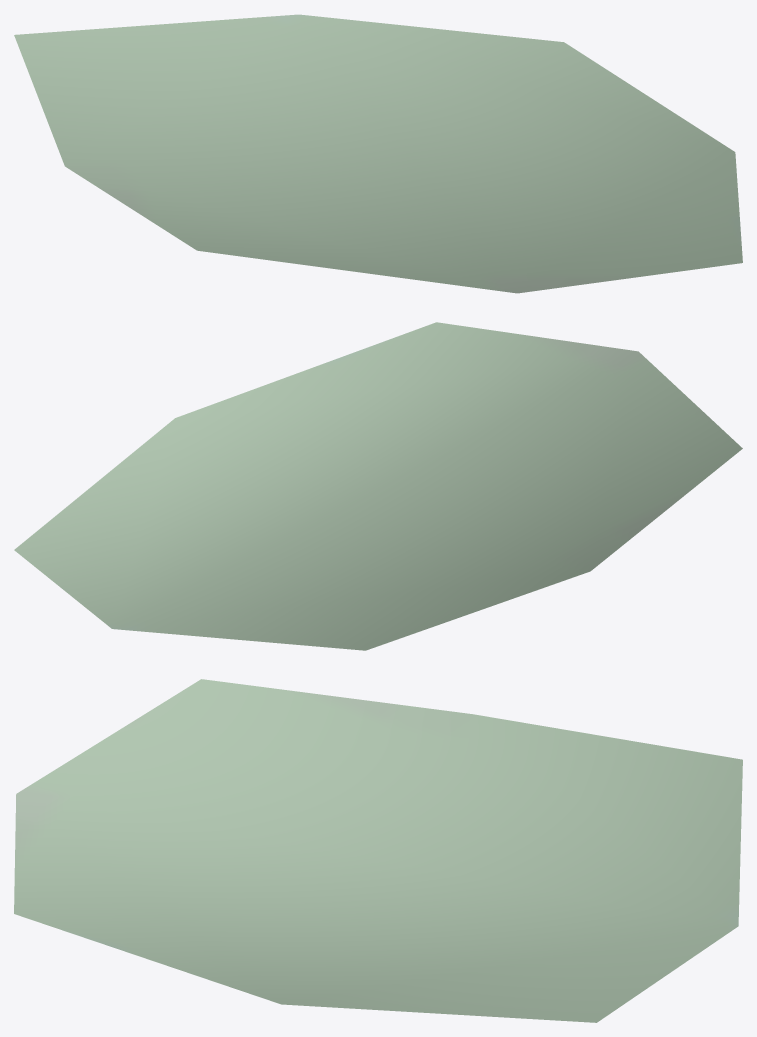
Rendered from TROLLHOLE02_HOLECAP97.fbx.
3 renders of one model, top to bottom at view 1: azimuth 30°, elevation 25°; view 2: azimuth 150°, elevation 25°; view 3: azimuth 270°, elevation 25°, orthographic. The views are drawn at different scales.
Parts seen in each view (by area): view 1: TROLLHOLE02_HOLECAP97; view 2: TROLLHOLE02_HOLECAP97; view 3: TROLLHOLE02_HOLECAP97.
Part boxes in pixels (x1,y1,x2,y2): TROLLHOLE02_HOLECAP97: (14, 14, 742, 293); TROLLHOLE02_HOLECAP97: (14, 322, 742, 650); TROLLHOLE02_HOLECAP97: (14, 679, 742, 1022).
Bounding box in the file's own units: 18092 × 2795 × 21582.
Materials: 1 (1 with a texture image).
